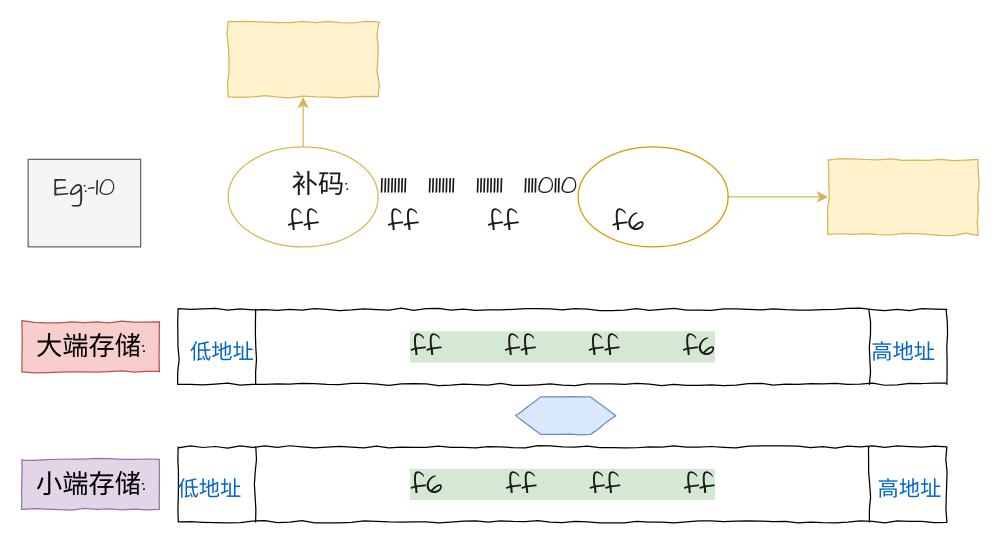
Image size: 1000x544. Some labels were removed from this diagram. Each missing label, with the centre of its shape:
"低数值位(权重低)" goes at [902,196].
"内存" goes at [565,415].
"高数值位:权重高" goes at [302,59].
